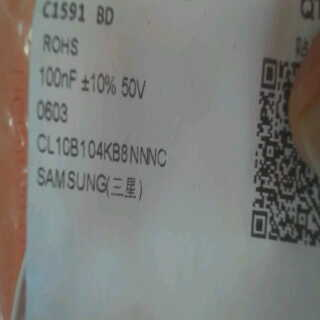100nF: (36, 60, 81, 93)
